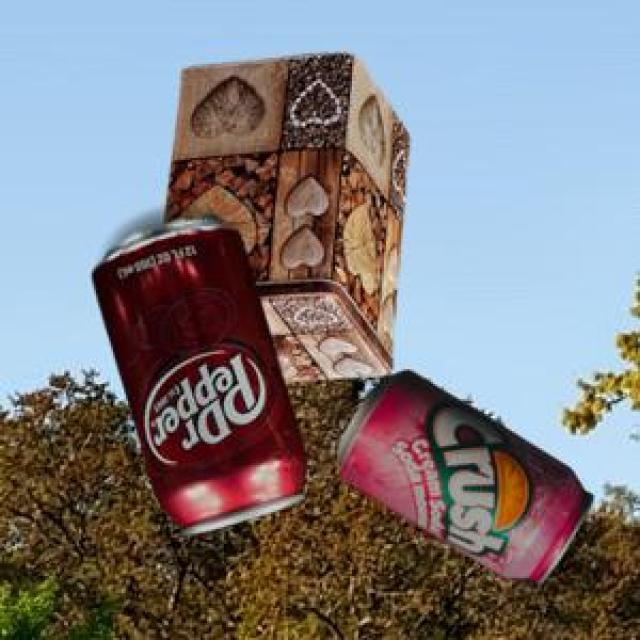logam: (161, 50, 406, 379), (89, 212, 302, 532), (334, 368, 590, 581)
